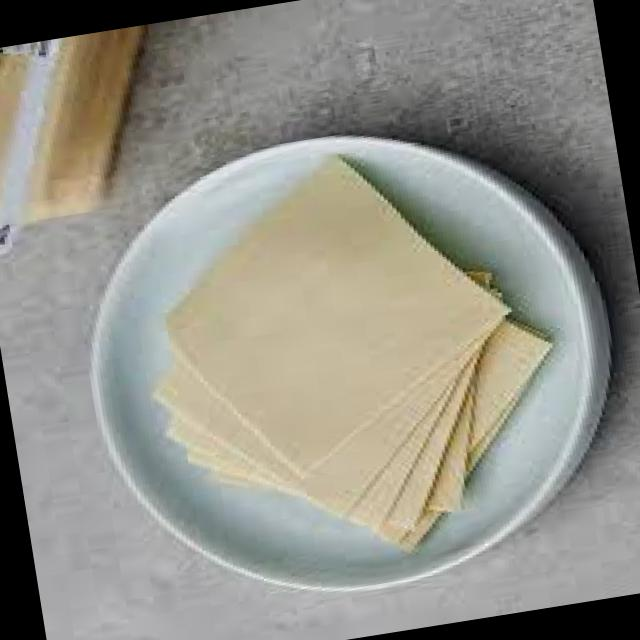tofu: (131, 122, 529, 478)
